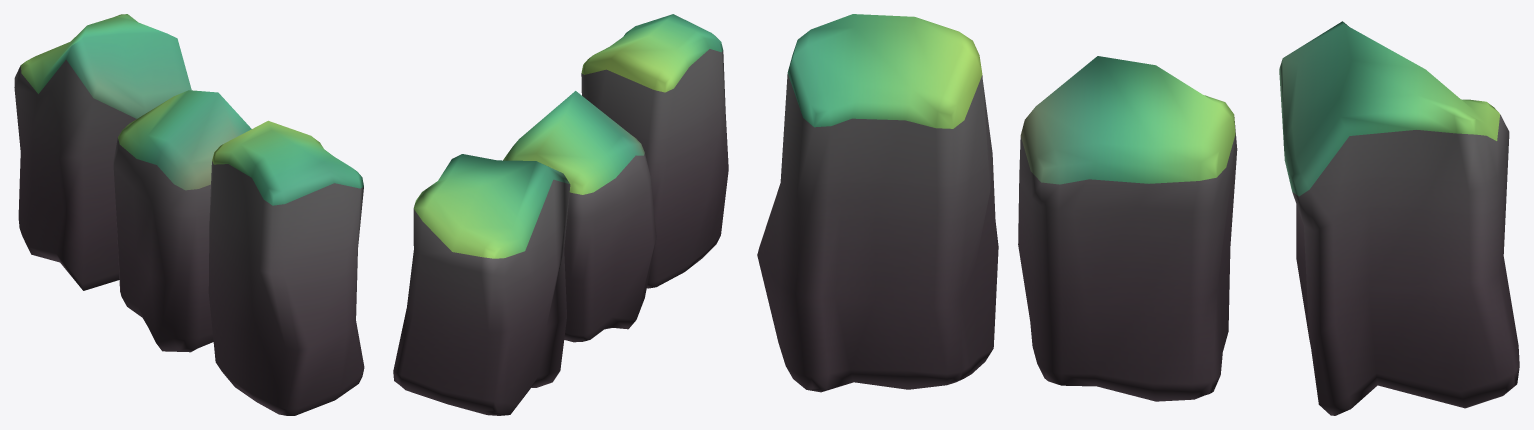
Rendered from Rocks.fbx.
The picture shows the model from 3 angles, left to right: view 1: azimuth 30°, elevation 25°; view 2: azimuth 150°, elevation 25°; view 3: azimuth 270°, elevation 25°; orthographic projection. The views are drawn at different scales.
Visible parts, largest first — view 1: Rock2, Rock3, Rock1; view 2: Rock3, Rock2, Rock1; view 3: Rock2, Rock3, Rock1.
Boxes of the visible parts, x1,y1,x2,y2 form: Rock2: (208, 120, 364, 415); Rock3: (14, 14, 191, 290); Rock1: (113, 90, 251, 352); Rock3: (393, 154, 570, 415); Rock2: (581, 14, 728, 288); Rock1: (503, 91, 656, 342); Rock2: (757, 14, 998, 392); Rock3: (1279, 21, 1519, 415); Rock1: (1018, 56, 1237, 401).
Size of the model in its own units: 9.17 by 17.94 by 34.13.
1 material, 1 textured.
